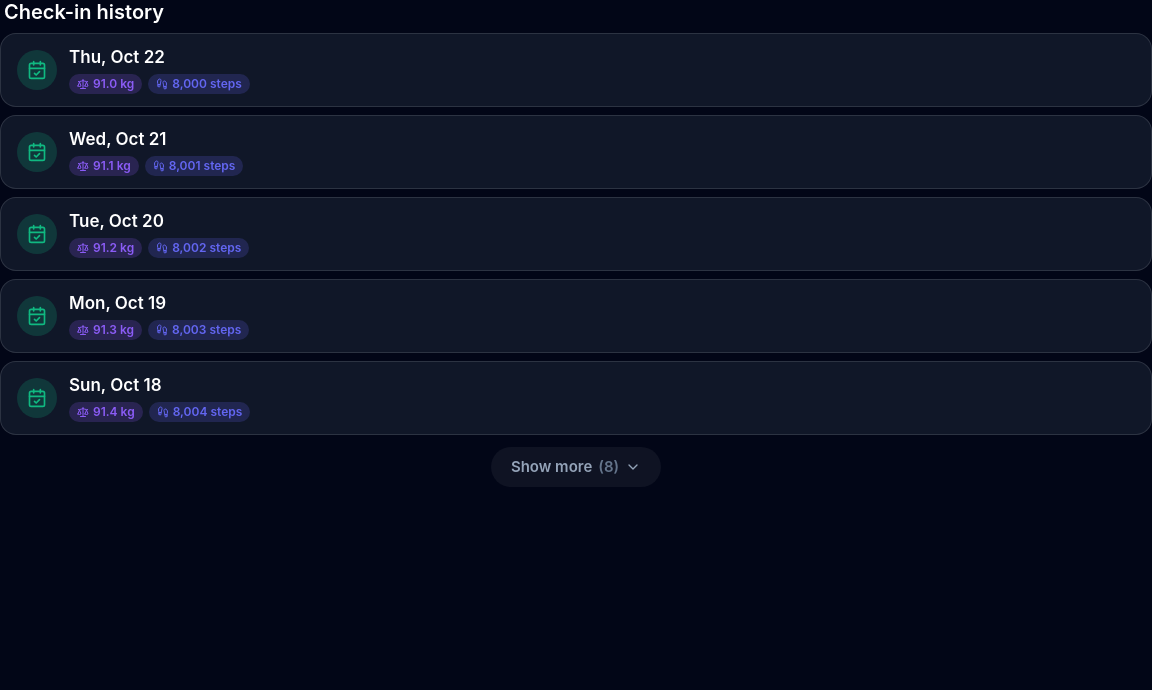
Test: CheckInHistoryList › caps at pageSize and expands with Show more
The width and height of the screenshot is (1152, 690).
Expected: the number of buttons with test id "checkin-row" is 5, 0,33 -> 1151,107; 0,115 -> 1151,189; 0,197 -> 1151,271; 0,279 -> 1151,353; 0,361 -> 1151,435
Click the button with test id "checkin-show-more".
click(576, 467)  # box 491,447 -> 661,487
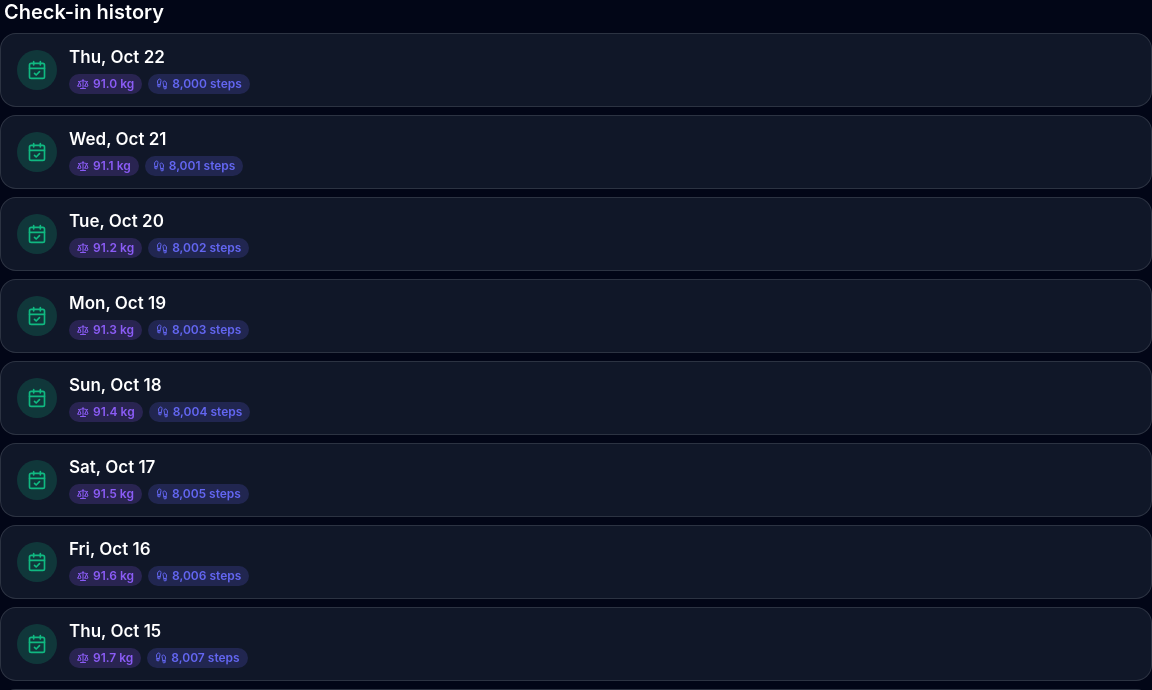
Expected: the number of buttons with test id "checkin-row" is 10
